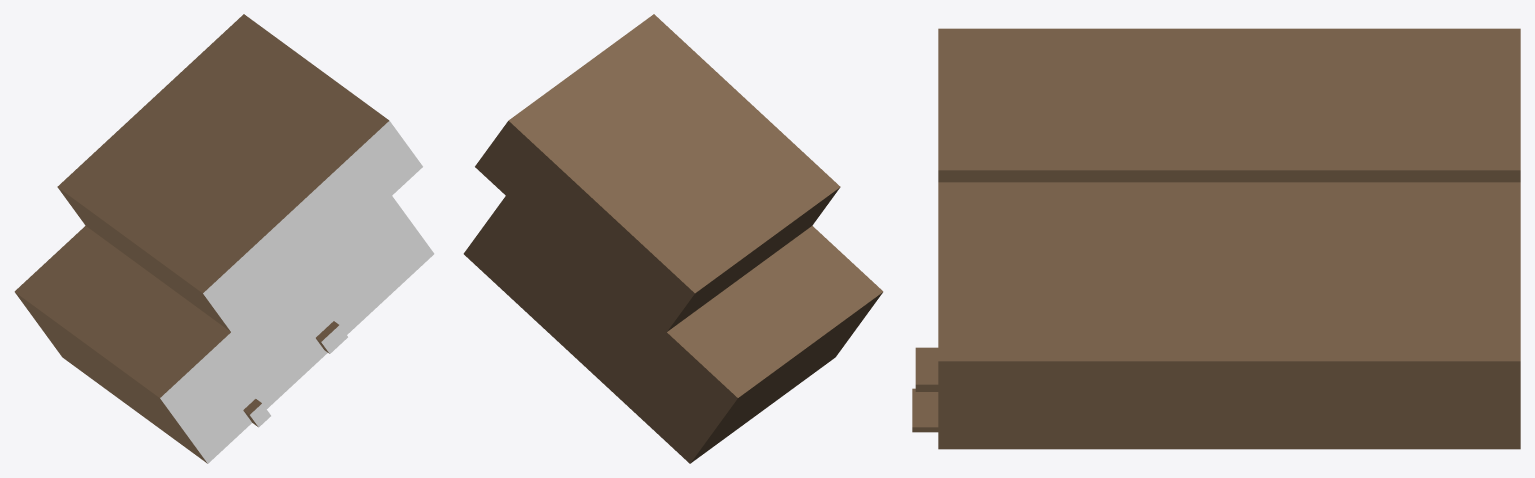
The picture shows the model from 3 angles, left to right: view 1: azimuth 30°, elevation 25°; view 2: azimuth 150°, elevation 25°; view 3: azimuth 270°, elevation 25°; orthographic projection. The views are drawn at different scales.
Parts seen in each view (by area): view 1: City_1885506; view 2: City_1885506; view 3: City_1885506.
Boxes of the visible parts, x1,y1,x2,y2 form: City_1885506: (14, 14, 434, 463); City_1885506: (463, 14, 883, 463); City_1885506: (912, 28, 1520, 449).
Bounding box in the file's own units: 1501 × 1563 × 1440.
